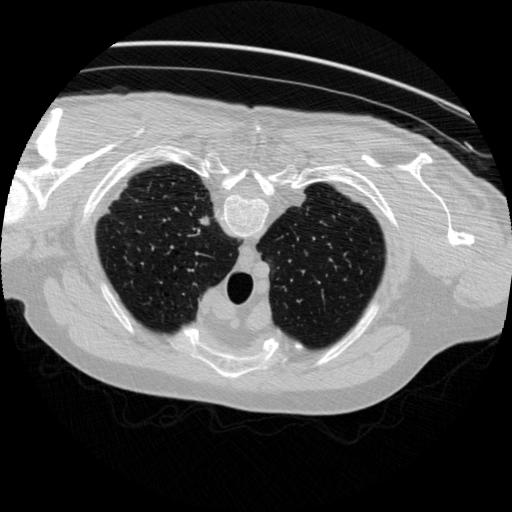nodule: (197, 215, 212, 230)
